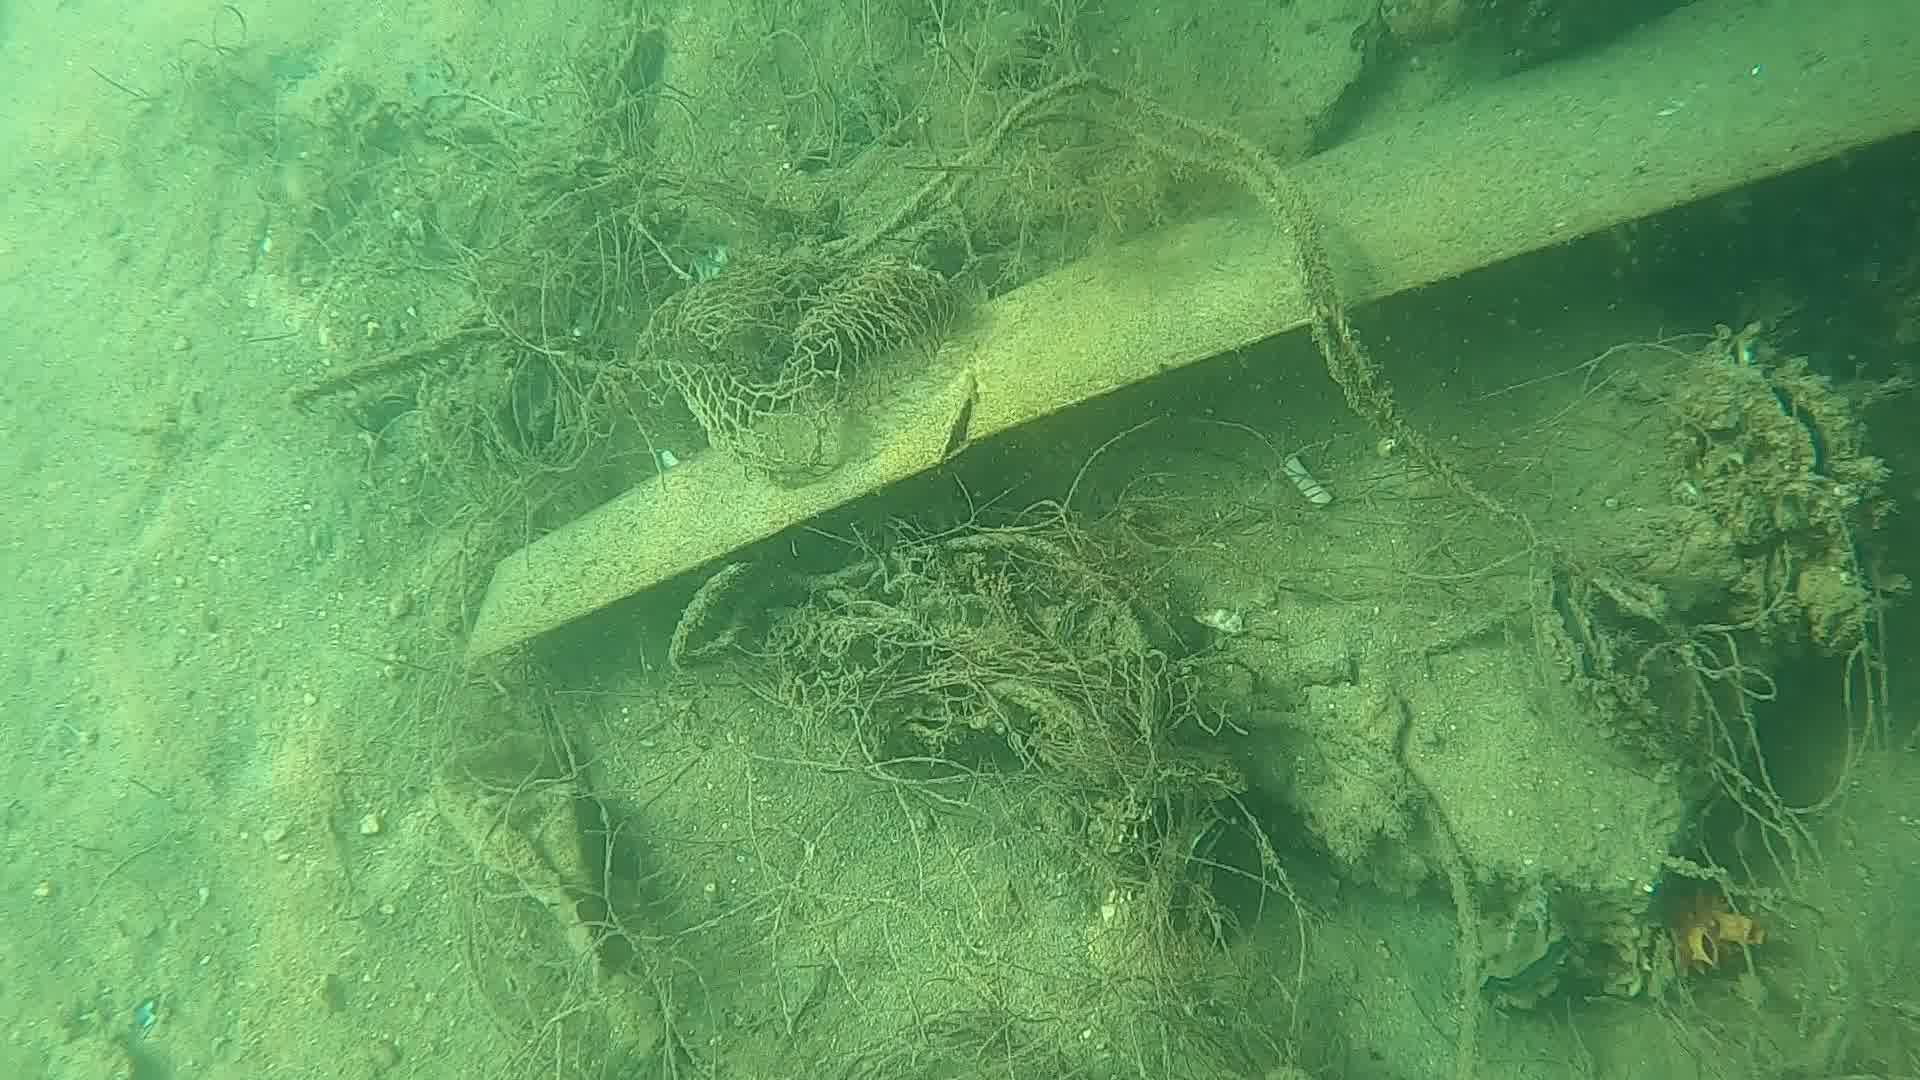fish net: (644, 247, 953, 484)
wood: (462, 1, 1920, 665)
